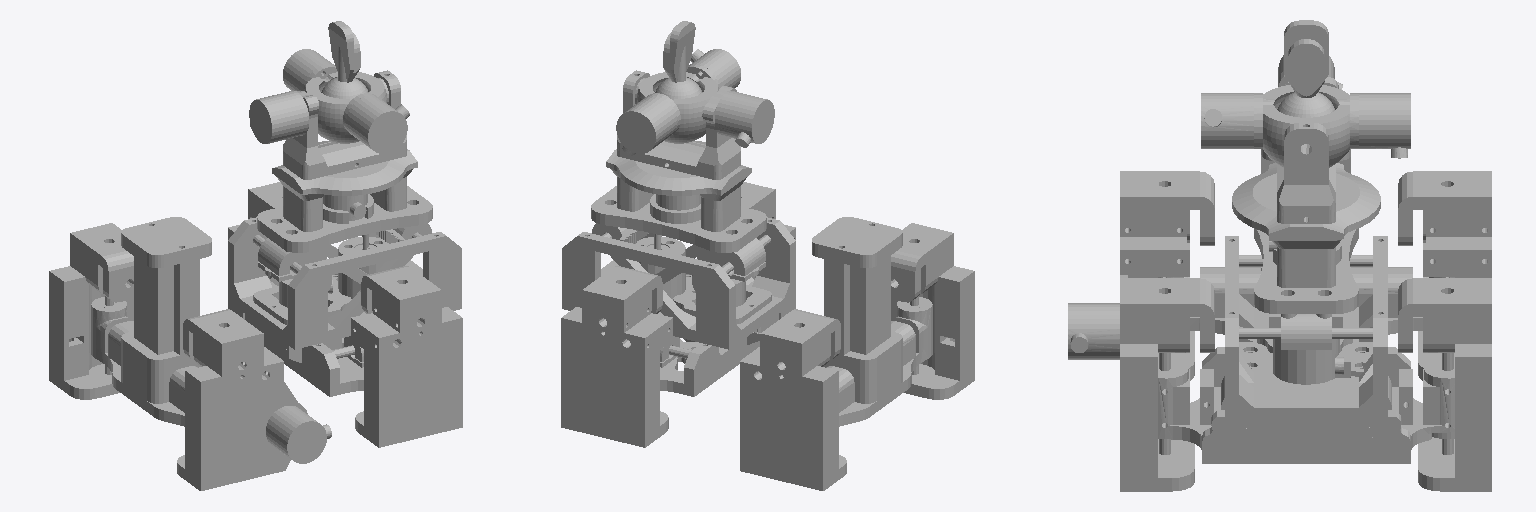
URDF robot description (mando6dof):
<?xml version="1.0" encoding="utf-8"?>        <!-- GENERAT AUTOMÀTICAMENT AMB SOLIDWORKS -->
<robot name="mando6dof">  
  <link name="base_link">
    <visual>
      <origin xyz="0 0 0" rpy="0 0 0" />
      <geometry>
        <mesh filename="mando_meshes/base_link.STL" />
      </geometry>
      <material name="">
        <color rgba="0.752941176470588 0.752941176470588 0.752941176470588 1" />
      </material>
    </visual>
    <collision>
      <origin xyz="0 0 0" rpy="0 0 0" />
      <geometry>
        <mesh filename="mando_meshes/base_link.STL" />
      </geometry>
    </collision>
  </link>
  
  <link name="part2">
    <inertial>
      <origin xyz="0.000211555333141503 0.095209895126307 0.0697847466660272" rpy="0 0 0" />
      <mass value="2.04048569141785" />
      <inertia ixx="0.00363755179279549" ixy="1.14656318256036E-08" ixz="-8.19764416081096E-09" iyy="0.00290948104388007" iyz="-1.09589741694387E-08" izz="0.00133028153957946" />
    </inertial>
    <visual>
      <origin xyz="0 0 0" rpy="0 0 0" />
      <geometry>
        <mesh filename="mando_meshes/part2.STL" />
      </geometry>
      <material name="">
        <color rgba="0.752941176470588 0.752941176470588 0.752941176470588 1" />
      </material>
    </visual>
    <collision>
      <origin xyz="0 0 0" rpy="0 0 0" />
      <geometry>
        <mesh filename="mando_meshes/part2.STL" />
      </geometry>
    </collision>
  </link>
  
  <joint name="j1" type="prismatic">
    <origin xyz="0 0.19 0.0275" rpy="0 0 3.1416" />
    <parent link="base_link" />
    <child link="part2" />
    <axis xyz="0 0 1" />
    <limit lower="-0.0175" upper="0.0175" effort="100" velocity="3" />
  </joint>
  
  <link name="part3">
    <inertial>
      <origin xyz="0.000135292413790358 0.095546837132154 0.0159515629442881" rpy="0 0 0" />
      <mass value="0.381868413230614" />
      <inertia ixx="0.00101042836723973" ixy="-1.00552364730264E-05" ixz="3.01640449501536E-06" iyy="0.000436500607840934" iyz="3.68553377600405E-06" izz="0.00136980300897012" />
    </inertial>
    <visual>
      <origin xyz="0 0 0" rpy="0 0 0" />
      <geometry>
        <mesh filename="mando_meshes/part3.STL" />
      </geometry>
      <material name="">
        <color rgba="0.752941176470588 0.752941176470588 0.752941176470588 1" />
      </material>
    </visual>
    <collision>
      <origin xyz="0 0 0" rpy="0 0 0" />
      <geometry>
        <mesh filename="mando_meshes/part3.STL" />
      </geometry>
    </collision>
  </link>
  
  <joint name="j2" type="prismatic">
    <origin xyz="0.17 0.19 0.0275" rpy="0 0 3.1416" />
    <parent link="base_link" />
    <child link="part3" />
    <axis xyz="0 0 1" />
    <limit lower="-0.0175" upper="0.0175" effort="100" velocity="3" />
    <mimic joint="j1" multiplier="-1" />
  </joint>
  
  <link name="part4">
    <inertial>
      <origin xyz="0.00661877439235189 0.0428655450255509 0.0422430455508019" rpy="0 0 0" />
      <mass value="1.12497715384726" />
      <inertia ixx="0.000871793257523051" ixy="3.27027500484445E-06" ixz="-1.13418601441967E-05" iyy="0.00096682344576199" iyz="-1.2664393557404E-07" izz="0.00141482243616791" />
    </inertial>
    <visual>
      <origin xyz="0 0 0" rpy="0 0 0" />
      <geometry>
        <mesh filename="mando_meshes/part4.STL" />
      </geometry>
      <material name="">
        <color rgba="0.752941176470588 0.752941176470588 0.752941176470588 1" />
      </material>
    </visual>
    <collision>
      <origin xyz="0 0 0" rpy="0 0 0" />
      <geometry>
        <mesh filename="mando_meshes/part4.STL" />
      </geometry>
    </collision>
  </link>
  
  <joint name="j3" type="prismatic">
    <origin xyz="0 0.0525 0.023" rpy="0 0 0" />
    <parent link="part3" />
    <child link="part4" />
    <axis xyz="-1 0 0" />
    <limit lower="-0.0276" upper="0.0276" effort="100" velocity="3" />
  </joint>
  
  <link name="part5">
    <inertial>
      <origin xyz="-0.000163594299378551 0.0581260649073952 0.0466086368334876" rpy="0 0 0" />
      <mass value="0.607645571100315" />
      <inertia ixx="0.000416418543057764" ixy="-2.55014096885044E-08" ixz="-1.52733119206932E-06" iyy="0.000189078731205113" iyz="2.32214849009674E-07" izz="0.000460925468431574" />
    </inertial>
    <visual>
      <origin xyz="0 0 0" rpy="0 0 0" />
      <geometry>
        <mesh filename="mando_meshes/part5.STL" />
      </geometry>
      <material name="">
        <color rgba="0.752941176470588 0.752941176470588 0.752941176470588 1" />
      </material>
    </visual>
    <collision>
      <origin xyz="0 0 0" rpy="0 0 0" />
      <geometry>
        <mesh filename="mando_meshes/part5.STL" />
      </geometry>
    </collision>
  </link>
  
  <joint name="j4" type="prismatic">
    <origin xyz="-0.058 0.0425 0.075" rpy="0 0 -1.5708" />
    <parent link="part4" />
    <child link="part5" />
    <axis xyz="1 0 0" />
    <limit lower="-0.0276" upper="0.0276" effort="100" velocity="3" />
  </joint>
  
  <link name="part6">
    <inertial>
      <origin xyz="0.000265062369918981 0.0496030896937153 0.0460916214976215" rpy="0 0 0" />
      <mass value="0.42731034318776" />
      <inertia ixx="0.000200296227604456" ixy="-1.32722032147083E-06" ixz="1.000101157774E-06" iyy="9.99515229399172E-05" iyz="7.98474122405562E-07" izz="0.00018185439452236" />
    </inertial>
    <visual>
      <origin xyz="0 0 0" rpy="0 0 0" />
      <geometry>
        <mesh filename="mando_meshes/part6.STL" />
      </geometry>
      <material name="">
        <color rgba="0.752941176470588 0.752941176470588 0.752941176470588 1" />
      </material>
    </visual>
    <collision>
      <origin xyz="0 0 0" rpy="0 0 0" />
      <geometry>
        <mesh filename="mando_meshes/part6.STL" />
      </geometry>
    </collision>
  </link>
  
  <joint name="j5" type="revolute">
    <origin xyz="0 0.058 0.0775" rpy="0 0 0" />
    <parent link="part5" />
    <child link="part6" />
    <axis xyz="0 0 1" />
    <limit lower="-3.1416" upper="3.1416" effort="100" velocity="3" />
  </joint>
  
  <link name="part7">
    <inertial>
      <origin xyz="0.0347789711033947 3.08996561670938E-09 -0.00144125461399214" rpy="0 0 0" />
      <mass value="0.769163276116825" />
      <inertia ixx="0.000184841374085253" ixy="4.96315175269665E-07" ixz="2.45350981358203E-07" iyy="0.000166143552825002" iyz="-1.7609023501569E-06" izz="0.000200781144593822" />
    </inertial>
    <visual>
      <origin xyz="0 0 0" rpy="0 0 0" />
      <geometry>
        <mesh filename="mando_meshes/part7.STL" />
      </geometry>
      <material name="">
        <color rgba="0.752941176470588 0.752941176470588 0.752941176470588 1" />
      </material>
    </visual>
    <collision>
      <origin xyz="0 0 0" rpy="0 0 0" />
      <geometry>
        <mesh filename="mando_meshes/part7.STL" />
      </geometry>
    </collision>
  </link>
  
  <joint name="j6" type="revolute">
    <origin xyz="0 -0.035 0.053" rpy="0 -0.012108 1.5708" />
    <parent link="part6" />
    <child link="part7" />
    <axis xyz="0.99993 0 -0.012108" />
    <limit lower="-3.1416" upper="3.1416" effort="100" velocity="3" />
  </joint>
  
  <link name="mando">
    <inertial>
      <origin xyz="4.03448533612994E-05 -0.000742651534861499 0.0125647675154243" rpy="0 0 0" />
      <mass value="0.0541674165260093" />
      <inertia ixx="3.25964354682957E-05" ixy="-1.23845694932971E-08" ixz="2.09468685431252E-07" iyy="3.15424407438852E-05" iyz="1.36656979844455E-06" izz="8.50253584997852E-06" />
    </inertial>
    <visual>
      <origin xyz="0 0 0" rpy="0 0 0" />
      <geometry>
        <mesh filename="mando_meshes/mando.STL" />
      </geometry>
      <material name="">
        <color rgba="0.752941176470588 0.752941176470588 0.752941176470588 1" />
      </material>
    </visual>
    <collision>
      <origin xyz="0 0 0" rpy="0 0 0" />
      <geometry>
        <mesh filename="mando_meshes/mando.STL" />
      </geometry>
    </collision>
  </link>
  
  <joint name="j7" type="revolute">
    <origin xyz="0.035 0 -0.00094653" rpy="-0.059037 -0.012108 3.1416" />
    <parent link="part7" />
    <child link="mando" />
    <axis xyz="0 0.99826 0.059003" />
    <limit lower="-3.1416" upper="3.1416" effort="100" velocity="3" />
  </joint>

  <ros2_control name="FakeSystem" type="system">
    <hardware>
      <plugin>mock_components/GenericSystem</plugin>
    </hardware>
    <joint name="j1">
      <command_interface name="position"/>
      <state_interface name="position">
        <param name="initial_value">0.0</param>
      </state_interface>
    </joint>
    <joint name="j2">
      <param name="mimic">j1</param>
      <param name="multiplier">-1.0</param>
      <state_interface name="position"/>
    </joint>
    <joint name="j3">
      <command_interface name="position"/>
      <state_interface name="position">
        <param name="initial_value">0.0</param>
      </state_interface>
    </joint>
    <joint name="j4">
      <command_interface name="position"/>
      <state_interface name="position">
        <param name="initial_value">0.0</param>
      </state_interface>
    </joint>
    <joint name="j5">
      <command_interface name="position"/>
      <state_interface name="position">
        <param name="initial_value">0.0</param>
      </state_interface>
    </joint>
    <joint name="j6">
      <command_interface name="position"/>
      <state_interface name="position">
        <param name="initial_value">0.0</param>
      </state_interface>
    </joint>
    <joint name="j7">
      <command_interface name="position"/>
      <state_interface name="position">
        <param name="initial_value">0.0</param>
      </state_interface>
    </joint>
  </ros2_control>

</robot>

--- Render facts (derived) ---
Views: 3 orthographic renders of the robot side by side, from view 1: azimuth 30°, elevation 25°; view 2: azimuth 150°, elevation 25°; view 3: azimuth 270°, elevation 25°.
Robot: mando6dof — 8 links, 7 joints (3 revolute, 4 prismatic); root link base_link; default pose: every joint at zero.
Visible links, largest first — view 1: base_link, part4, part2, part5, part6, part7, part3, mando; view 2: base_link, part2, part4, part5, part6, part7, part3, mando; view 3: base_link, part4, part3, part5, part7, part6, mando, part2.
Boxes of the visible links, x1,y1,x2,y2 form: base_link: (49,182,462,490); part4: (228,217,461,367); part2: (91,217,211,426); part5: (257,141,432,281); part6: (249,70,406,179); part7: (283,49,409,153); part3: (245,276,363,396); mando: (321,21,368,99); base_link: (561,182,974,490); part2: (812,217,932,426); part4: (562,217,795,367); part5: (591,141,766,281); part6: (617,70,774,179); part7: (616,49,740,155); part3: (660,276,778,396); mando: (655,21,702,99); base_link: (1068,171,1491,491); part4: (1221,236,1391,421); part3: (1158,347,1454,463); part5: (1232,163,1380,349); part7: (1201,85,1410,167); part6: (1277,55,1342,223); mando: (1277,20,1334,117); part2: (1158,149,1454,334).
Bounding box of the posed robot: 0.29 × 0.2855 × 0.327 m (x, y, z).
8 mesh visuals loaded from 8 distinct referenced files (8 binary STL).
